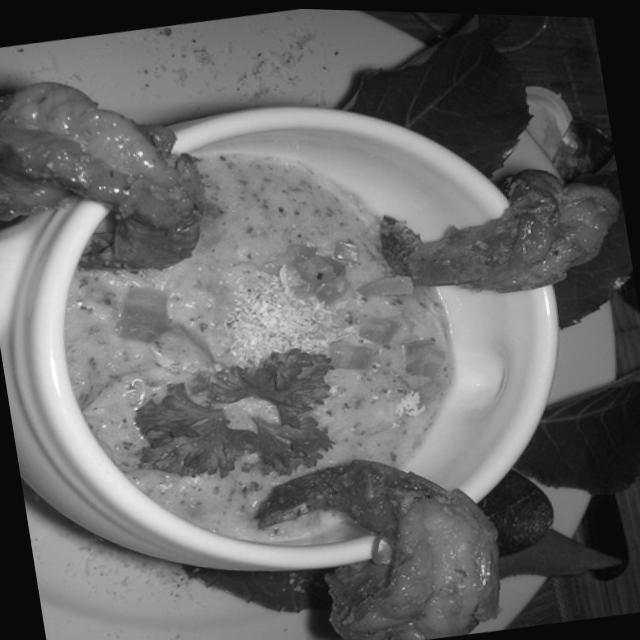汤锅炖物: (0, 17, 635, 640)
